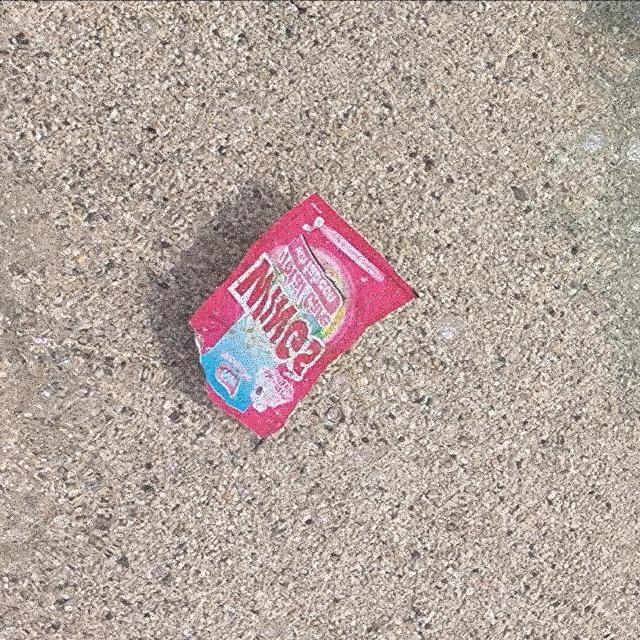plastic_waste: (186, 190, 422, 445)
